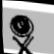not correct: (3, 11, 40, 54)
